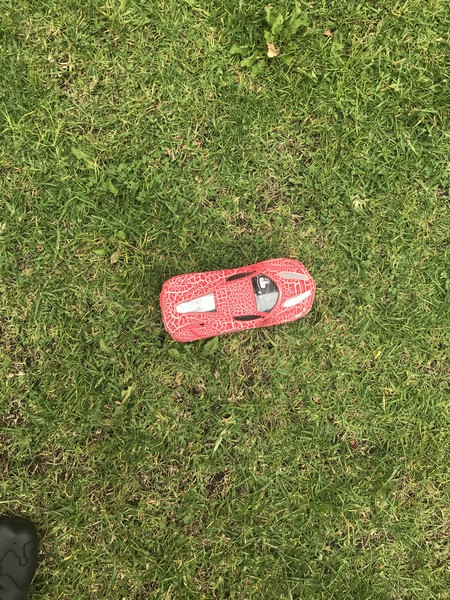RC: (158, 255, 319, 345)
